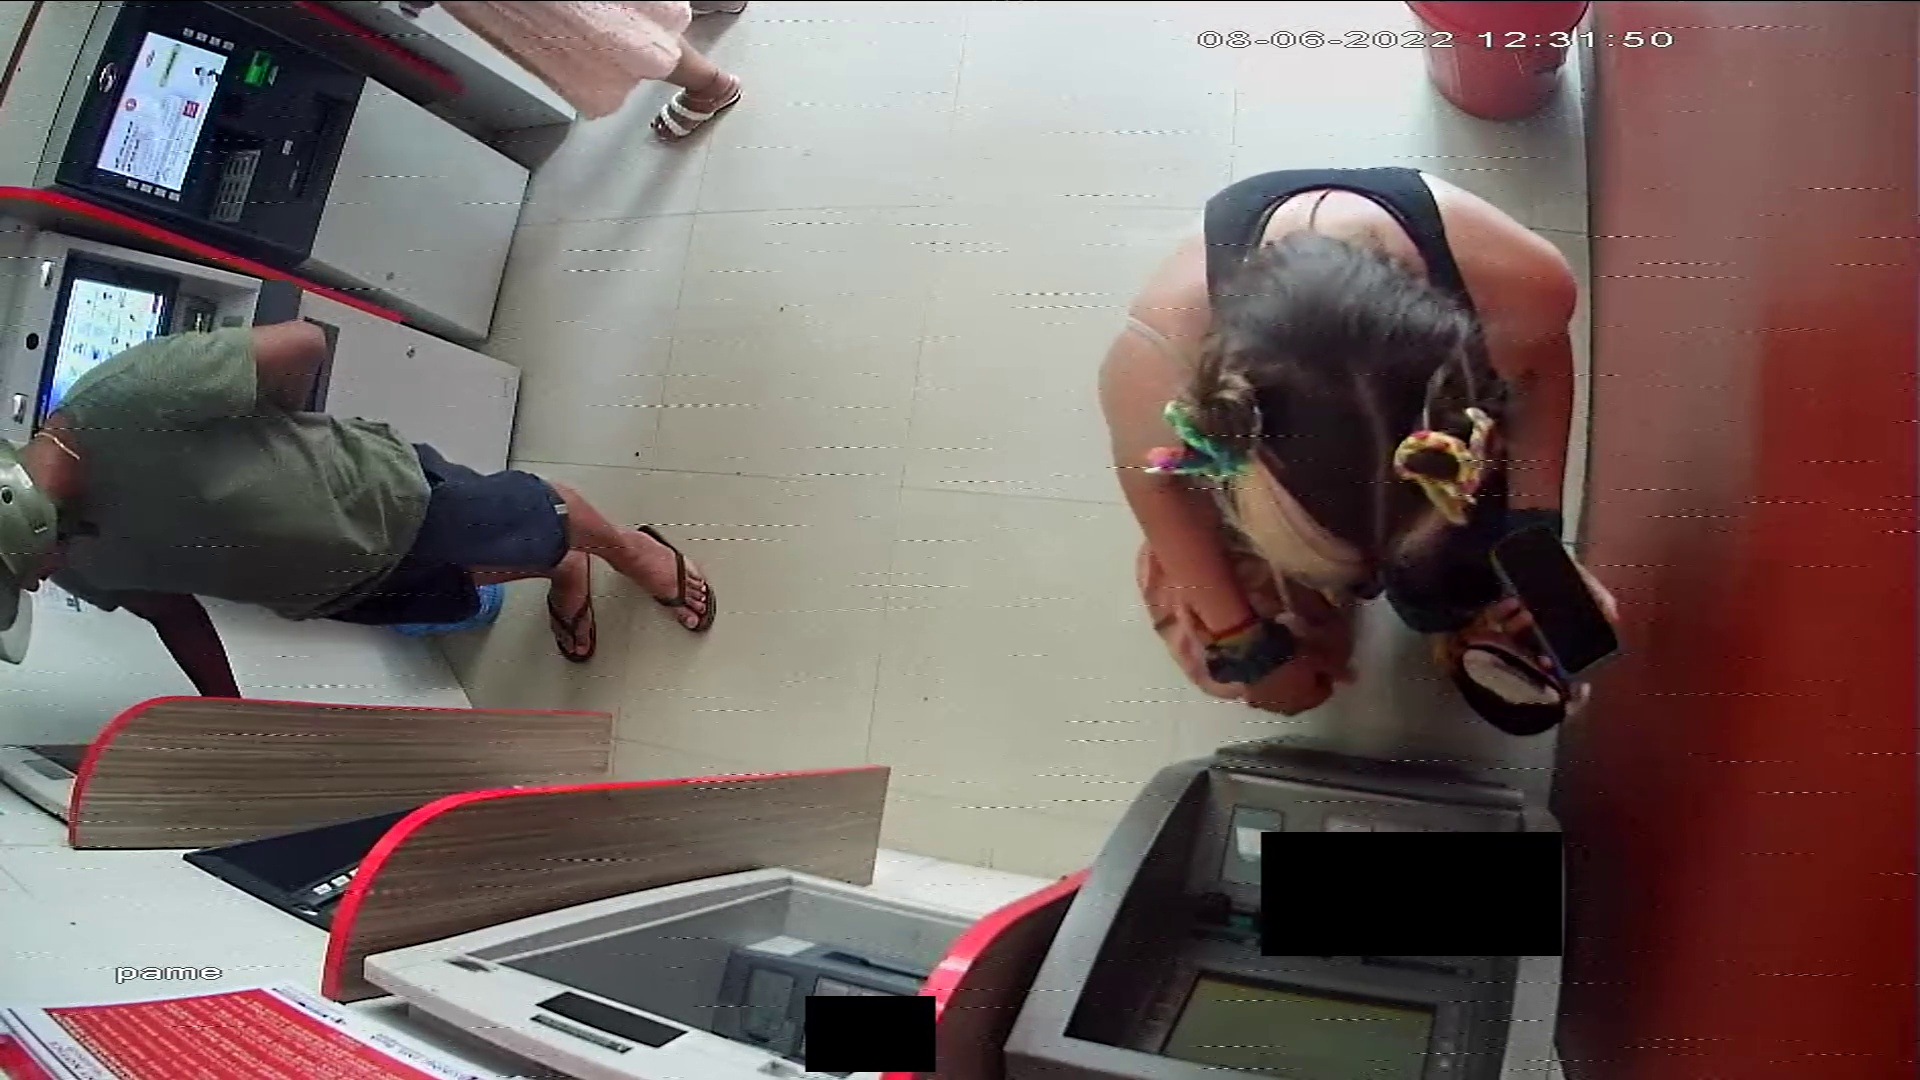helmet: (1, 437, 55, 665), (3, 439, 57, 667)
person: (1096, 167, 1626, 737), (1, 319, 719, 706), (1487, 528, 1628, 674)
